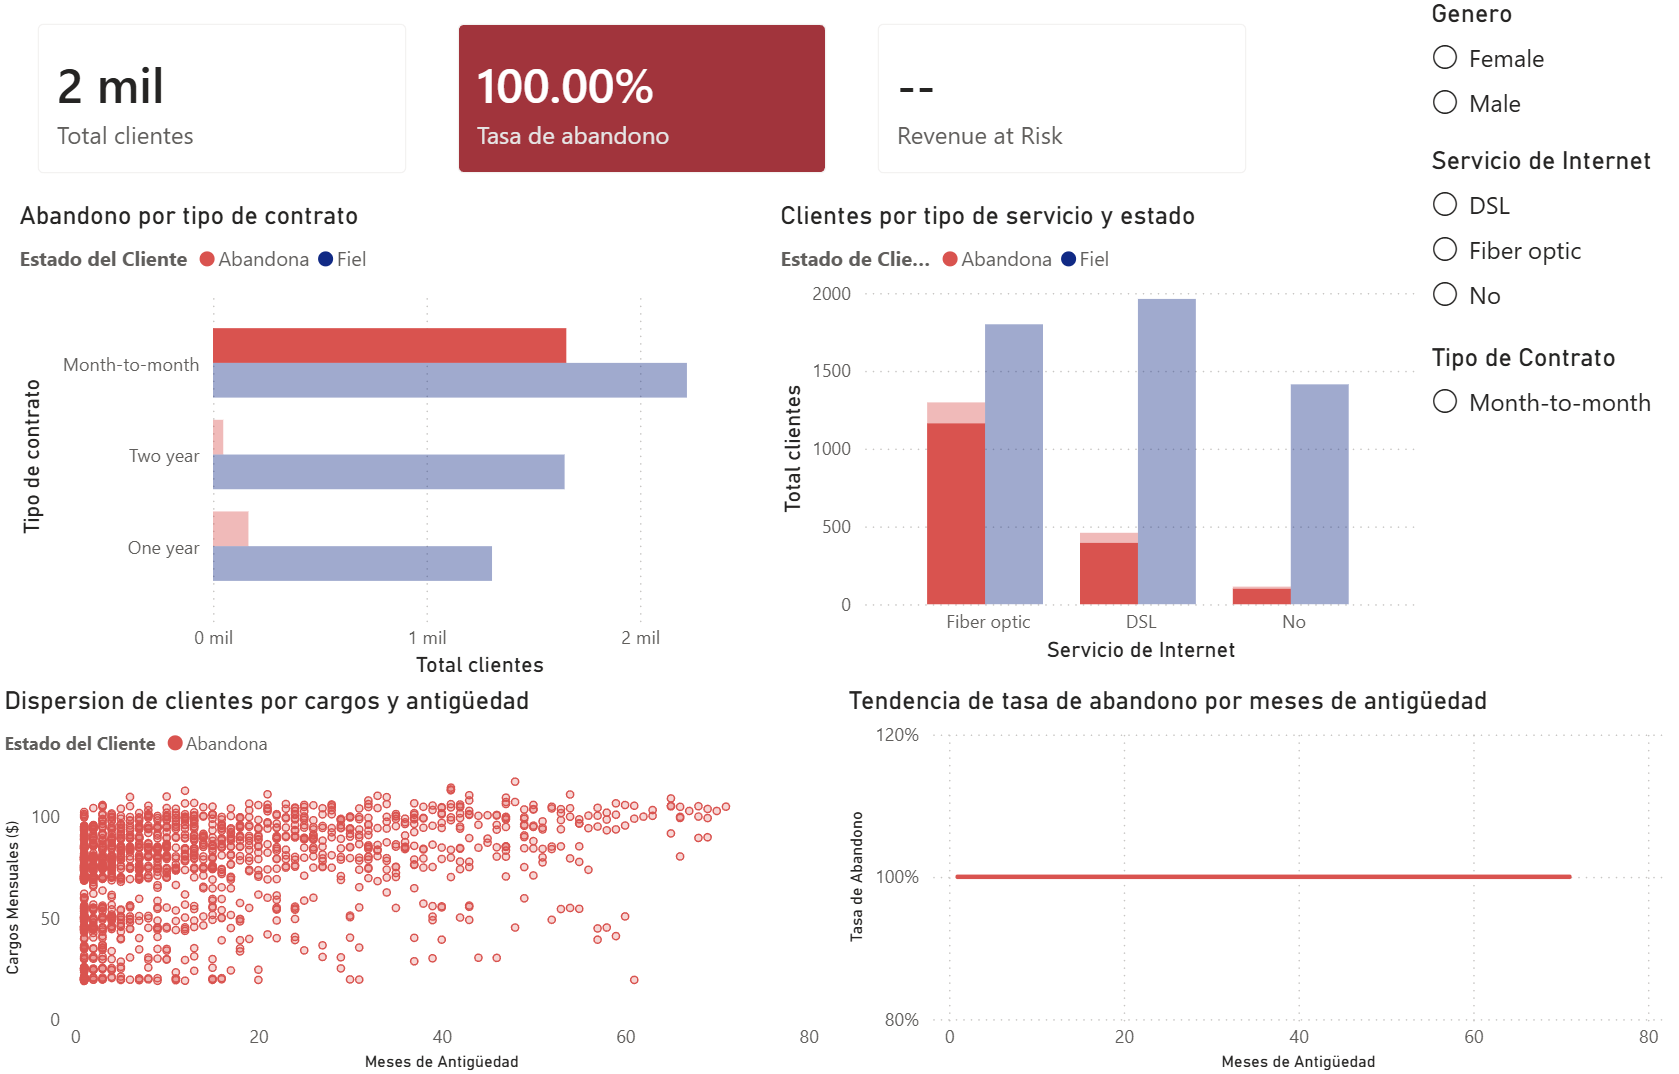

What the dashboard file says about the page in this screenshot:
{"tool":"powerbi","page":{"name":"Página 1","canvas":[1280,720],"ordinal":0},"visuals":[{"type":"cardVisual","fields":{"Data":["public v_reporte_churn_bi.Total clientes"]},"box":[9.8,0,280.1,134.8],"z":0},{"type":"cardVisual","title":"Tasa de abandono","fields":{"Data":["public v_reporte_churn_bi.Churn Rate"]},"box":[289.9,0,280.1,134.8],"z":1000},{"type":"cardVisual","fields":{"Data":["public v_reporte_churn_bi.Revenue at Risk"]},"box":[570,0,280.1,134.8],"z":2000},{"type":"clusteredBarChart","title":"Abandono por tipo de contrato","fields":{"Category":["public v_reporte_churn_bi.tipo_contrato"],"Y":["public v_reporte_churn_bi.Total clientes"],"Series":["public v_reporte_churn_bi.estado_cliente"]},"box":[9.8,134.8,507.8,323.3],"z":3000},{"type":"clusteredColumnChart","title":"Clientes por tipo de servicio y estado","fields":{"Y":["public v_reporte_churn_bi.Total clientes"],"Series":["public v_reporte_churn_bi.estado_cliente"],"Category":["public v_reporte_churn_bi.servicio_internet"]},"box":[517.6,134.8,433.9,312.8],"z":4000},{"type":"scatterChart","title":"Dispersion de clientes por cargos y antigüedad","fields":{"Y":["public v_reporte_churn_bi.cargos_mensuales"],"X":["public v_reporte_churn_bi.meses_antiguedad"],"Series":["public v_reporte_churn_bi.estado_cliente"]},"box":[0,458,552.7,262],"z":5000},{"type":"listSlicer","fields":{"Values":["public v_reporte_churn_bi.genero"]},"box":[951.5,0,316.7,91],"z":6000},{"type":"listSlicer","fields":{"Values":["public v_reporte_churn_bi.servicio_internet"]},"box":[951.4,97.9,328.6,125.7],"z":7000},{"type":"listSlicer","fields":{"Values":["public v_reporte_churn_bi.tipo_contrato"]},"box":[951.4,229.3,328.6,137.1],"z":8000},{"type":"lineChart","title":"Tendencia de tasa de abandono por meses de antigüedad","fields":{"Category":["public v_reporte_churn_bi.meses_antiguedad"],"Y":["public v_reporte_churn_bi.Churn Rate"]},"box":[573.3,458,585.3,262],"z":9000},{"type":"cardVisual","fields":{"Data":["public v_reporte_churn_bi.fuga_de_ingresos"]},"box":[951.3,360,314,98],"z":9001}]}

Visuals, with their boxes on the page's 1280x720 design canvas (x1, y1, x2, y2). These are canvas units, not pixel positions in the 1679x1074 screenshot, which may show the page scaled, cropped or inside an application window:
cardVisual - public v_reporte_churn_bi.Total clientes: BBox(10, 0, 290, 135)
"Tasa de abandono" cardVisual: BBox(290, 0, 570, 135)
cardVisual - public v_reporte_churn_bi.Revenue at Risk: BBox(570, 0, 850, 135)
"Abandono por tipo de contrato" clusteredBarChart: BBox(10, 135, 518, 458)
"Clientes por tipo de servicio y estado" clusteredColumnChart: BBox(518, 135, 952, 448)
"Dispersion de clientes por cargos y antigüedad" scatterChart: BBox(0, 458, 553, 720)
listSlicer - public v_reporte_churn_bi.genero: BBox(952, 0, 1268, 91)
listSlicer - public v_reporte_churn_bi.servicio_internet: BBox(951, 98, 1280, 224)
listSlicer - public v_reporte_churn_bi.tipo_contrato: BBox(951, 229, 1280, 366)
"Tendencia de tasa de abandono por meses de antigüedad" lineChart: BBox(573, 458, 1159, 720)
cardVisual - public v_reporte_churn_bi.fuga_de_ingresos: BBox(951, 360, 1265, 458)
